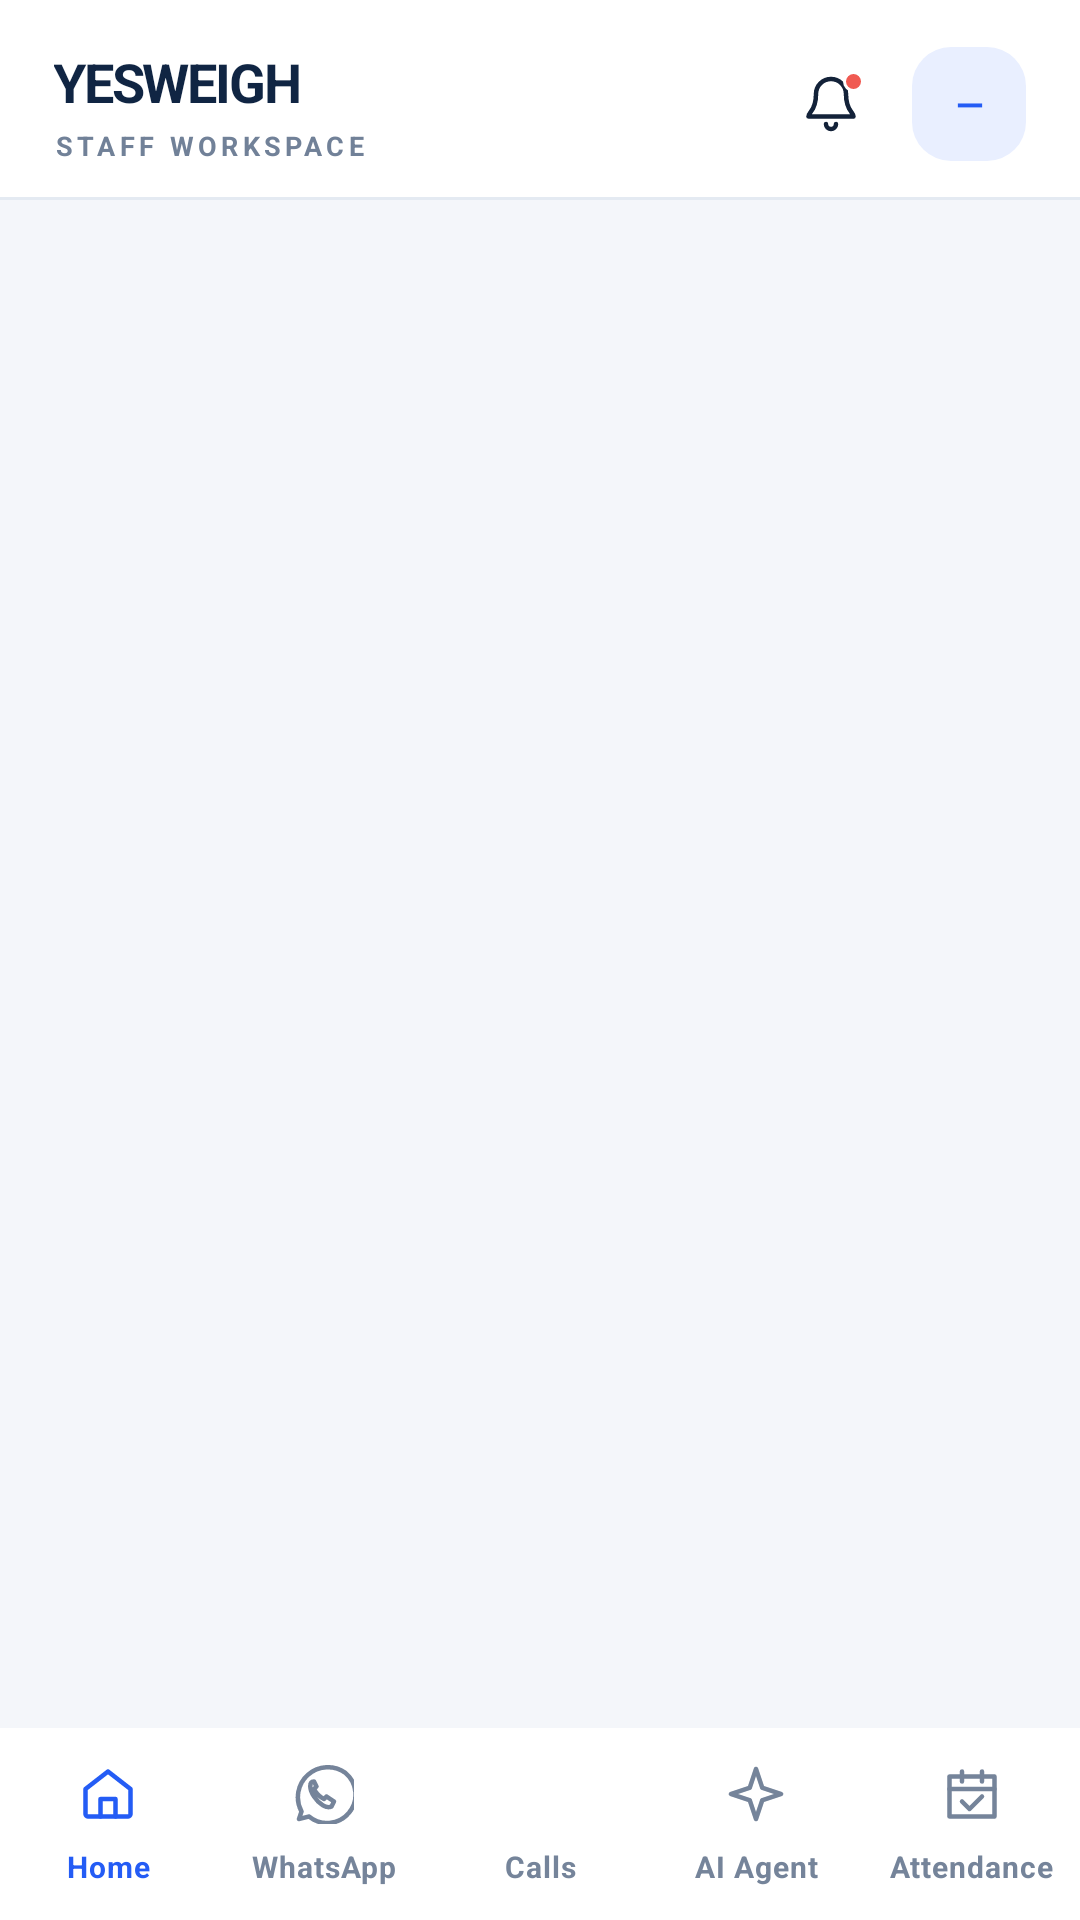

Icons on this 1080w x 1920h Android screen, each with the point to tap as (x=x, y=y):
bell: (x=833, y=103)
